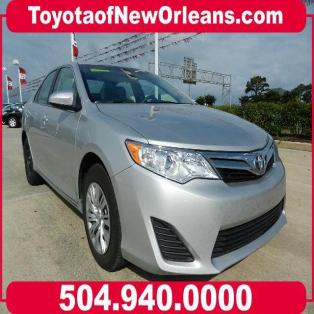Auto: (20, 62, 286, 276)
